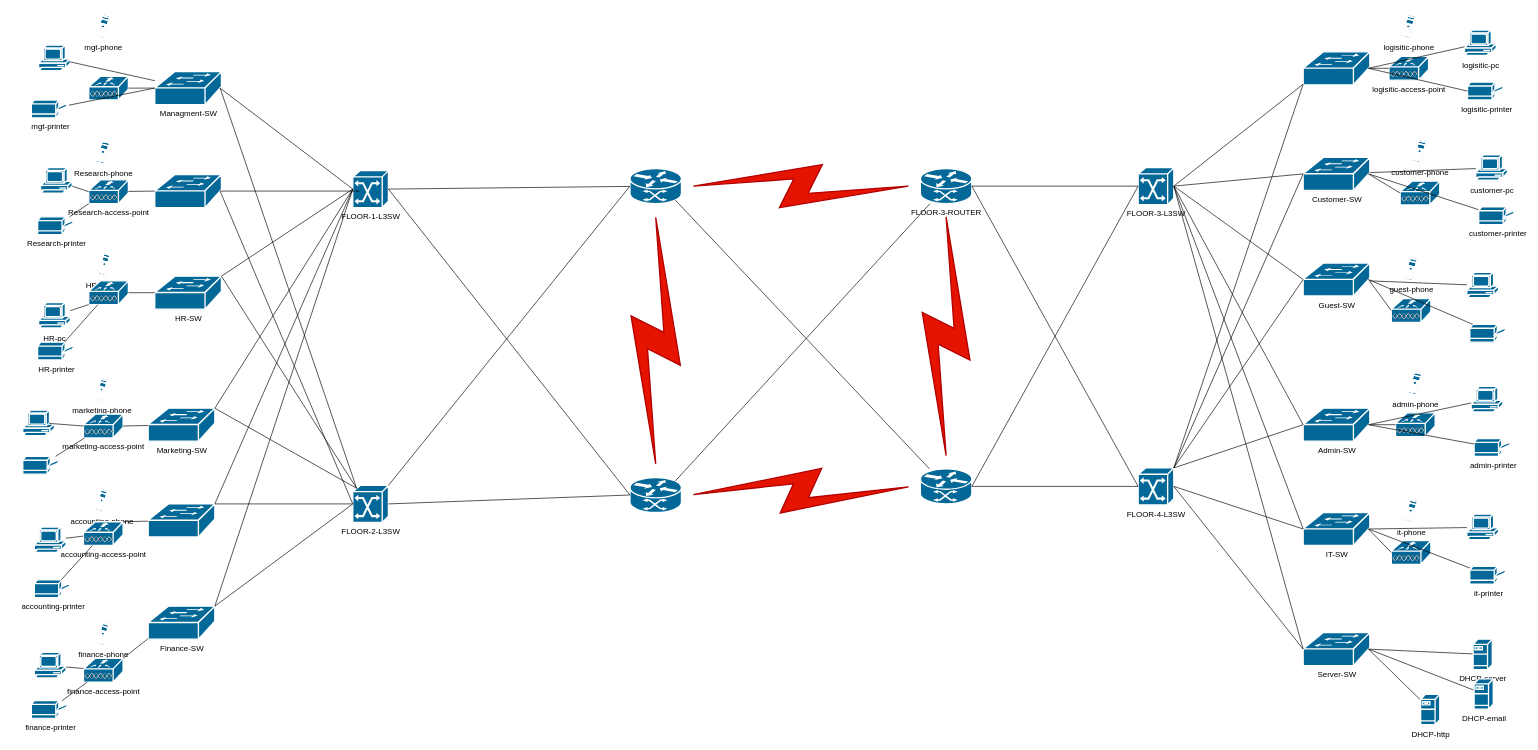
Some shapes in this 1538 by 750 pixel diagram are drawn without their labels. The shapes that lost their labels are listed below. From the top down, each one's centre as x and y in pixels, then its label:
point (54, 58): mgt-pc
point (1336, 68): Logisitiic-Sw
point (108, 87): mgt-access-point
point (56, 180): Research-PC
point (188, 191): Research-SW
point (655, 186): FLOOR-1-ROUTER
point (1419, 192): customer-access-point
point (108, 292): HR-access-point
point (1482, 285): guest-pc
point (1410, 310): guest-access-point
point (1488, 333): guest-printer
point (1486, 399): admin-pc
point (38, 423): marketing-pc
point (1415, 424): admin-access-point
point (41, 465): marketing-printer
point (655, 495): FLOOR-2-ROUTER
point (945, 486): FLOOR-4 -ROUTER
point (49, 540): accounting-pc
point (181, 520): Accounting-SW
point (1482, 527): it-pc
point (1410, 552): it-access-point
point (49, 665): finance-pc
